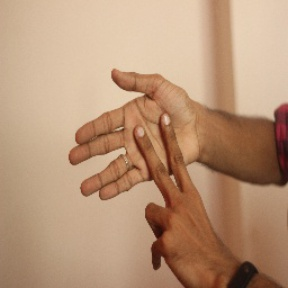N: (64, 60, 210, 244)
